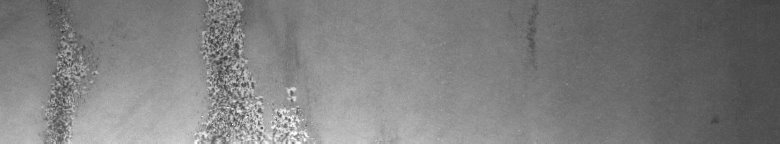hc: (195, 4, 308, 136)
